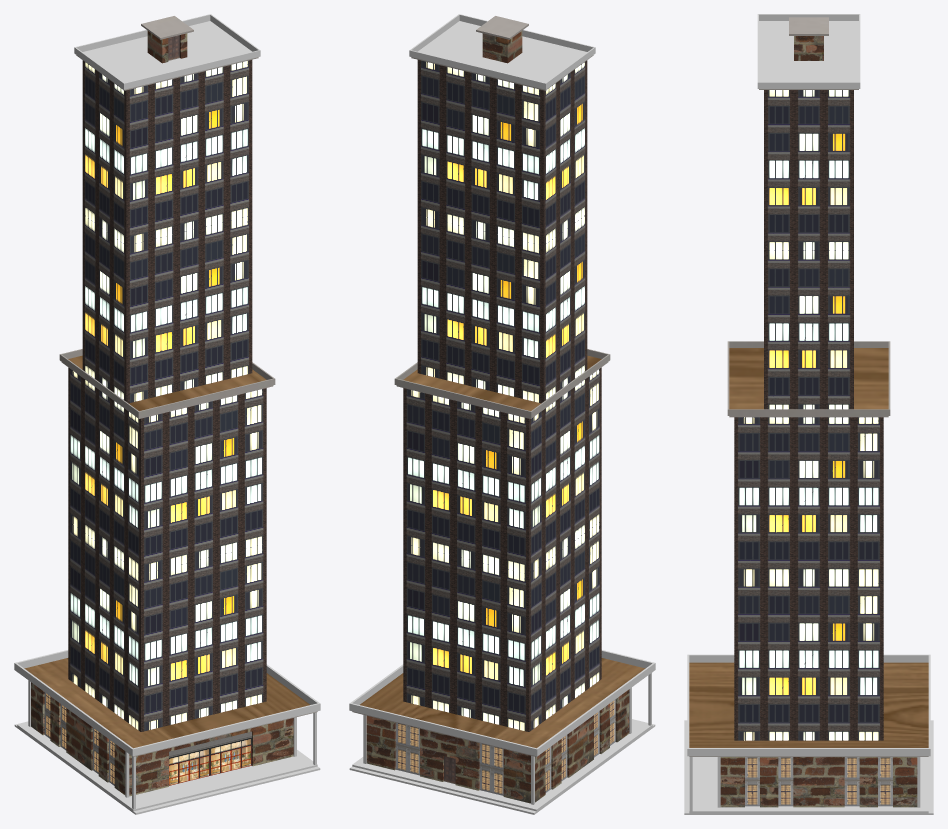
The model's file is BuildingE.fbx.
The picture shows the model from 3 angles, left to right: view 1: azimuth 30°, elevation 25°; view 2: azimuth 150°, elevation 25°; view 3: azimuth 270°, elevation 25°; orthographic projection. The views are drawn at different scales.
Parts seen in each view (by area): view 1: BuildingE; view 2: BuildingE; view 3: BuildingE.
Part boxes in pixels (box(x1,y1,x2,y2)): BuildingE: box(14, 14, 320, 814); BuildingE: box(349, 14, 655, 814); BuildingE: box(684, 14, 933, 814).
Size of the model in its own units: 2242 by 8220 by 2500.
